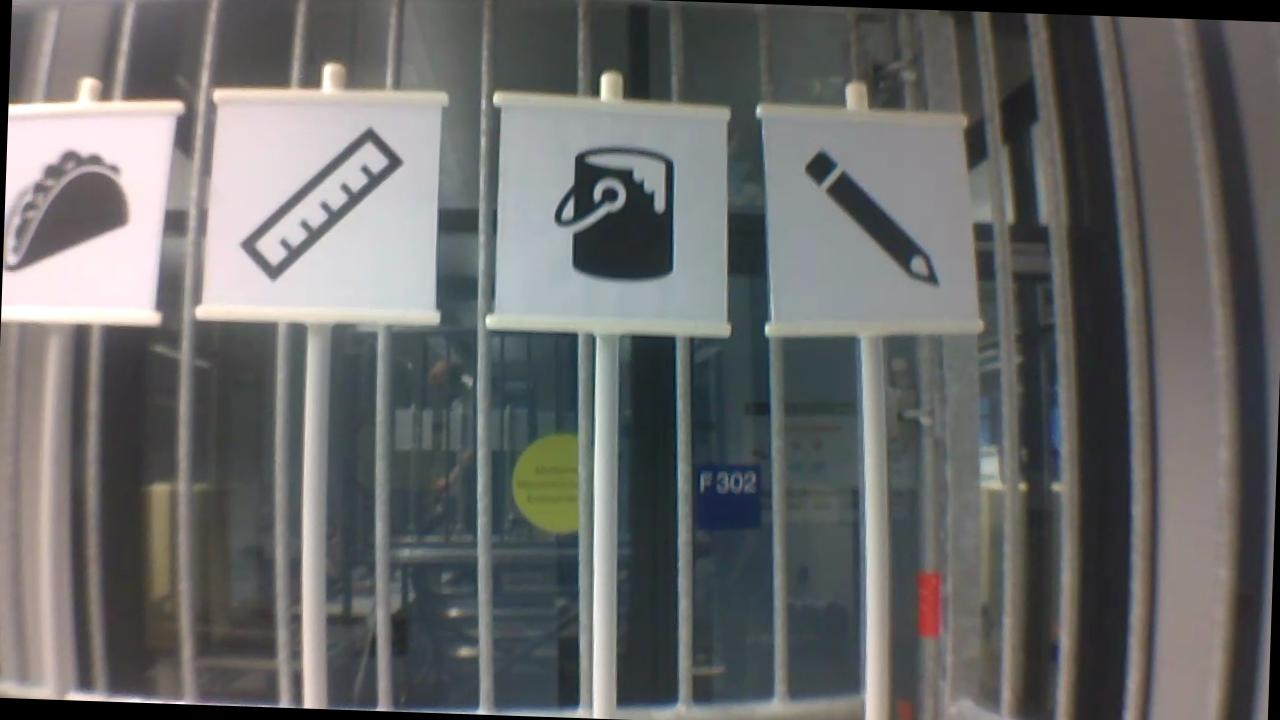bucket: (548, 140, 684, 288)
pencil: (786, 145, 953, 293)
ruler: (232, 116, 409, 289)
taco: (3, 141, 139, 278)
